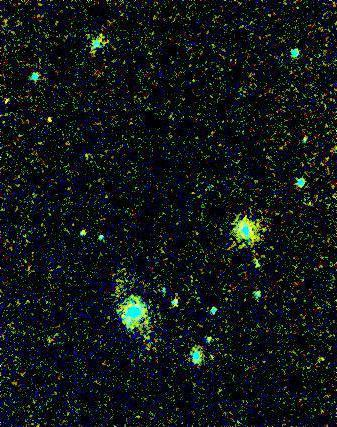star: (38, 104, 68, 134)
